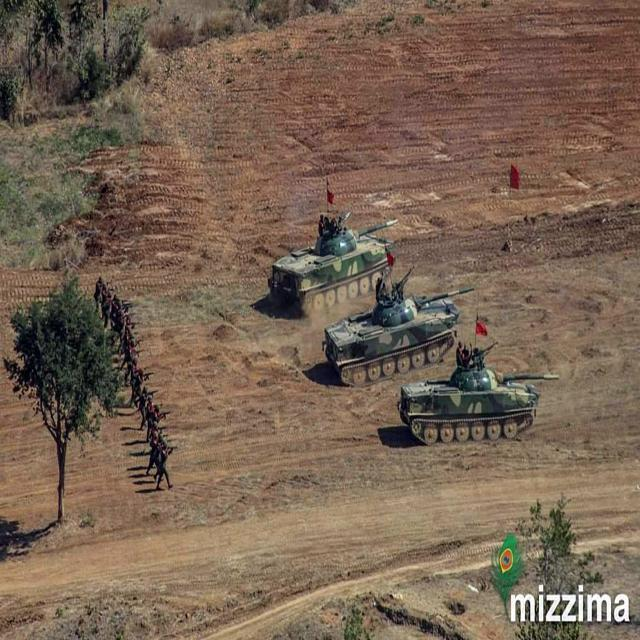Tanks: (396, 342, 552, 445), (322, 288, 471, 388), (264, 214, 398, 318)
